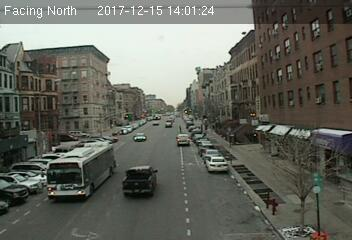bus: (44, 141, 116, 201)
car: (122, 166, 159, 196), (176, 133, 190, 146), (132, 132, 146, 141)
